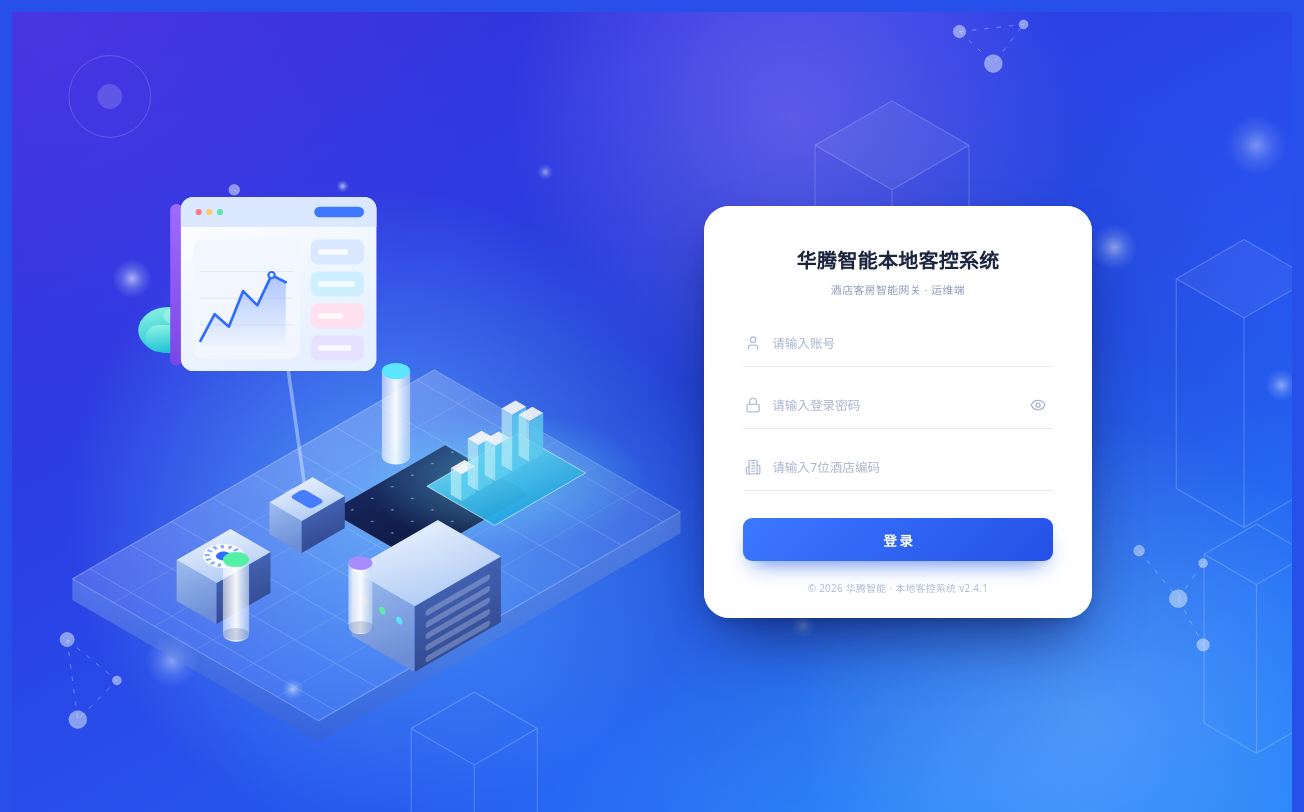
Test: 登录页 › 账号或密码错误时留在登录页提示，不写入会话
In the field with placeholder "请输入账号": (911, 343) [770,326,1051,360], type "admin"
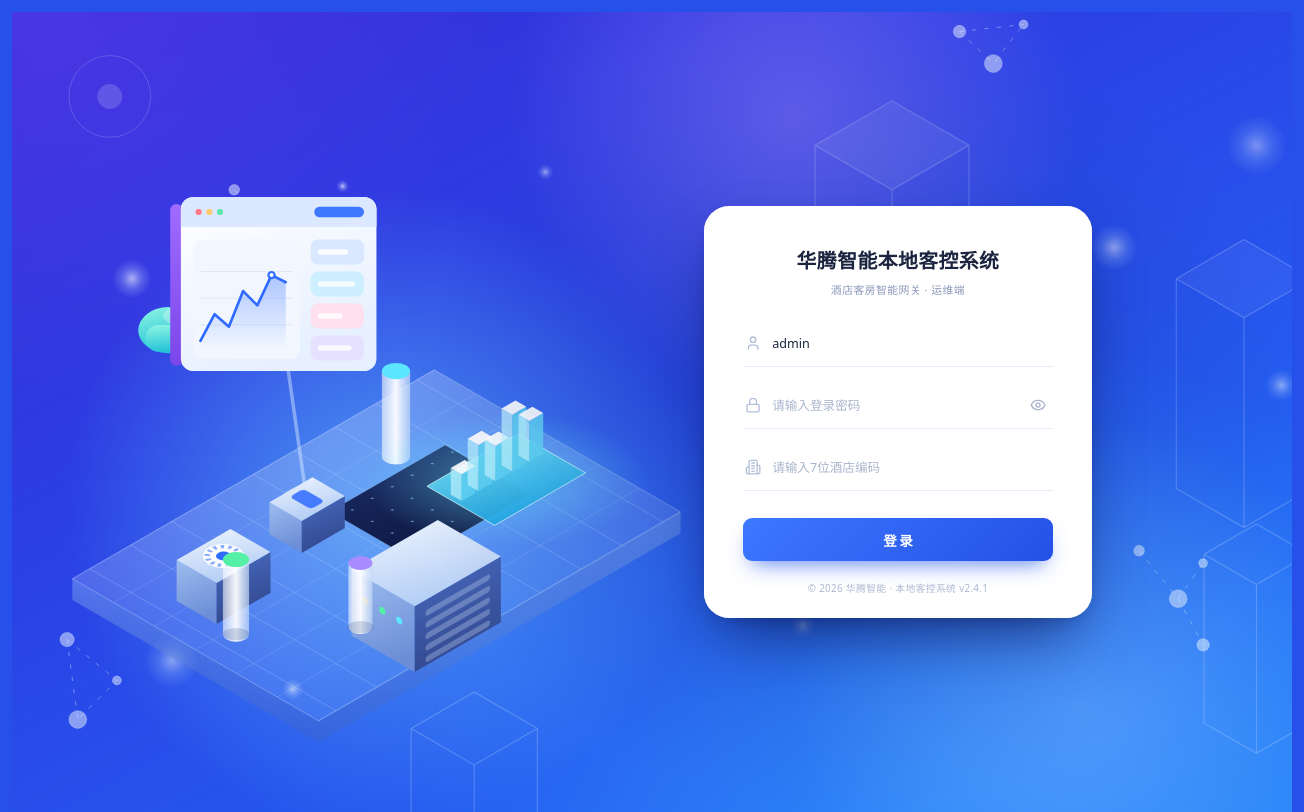
In the password field with placeholder "请输入登录密码": (893, 405) [770,388,1015,422], type "not-the-password"
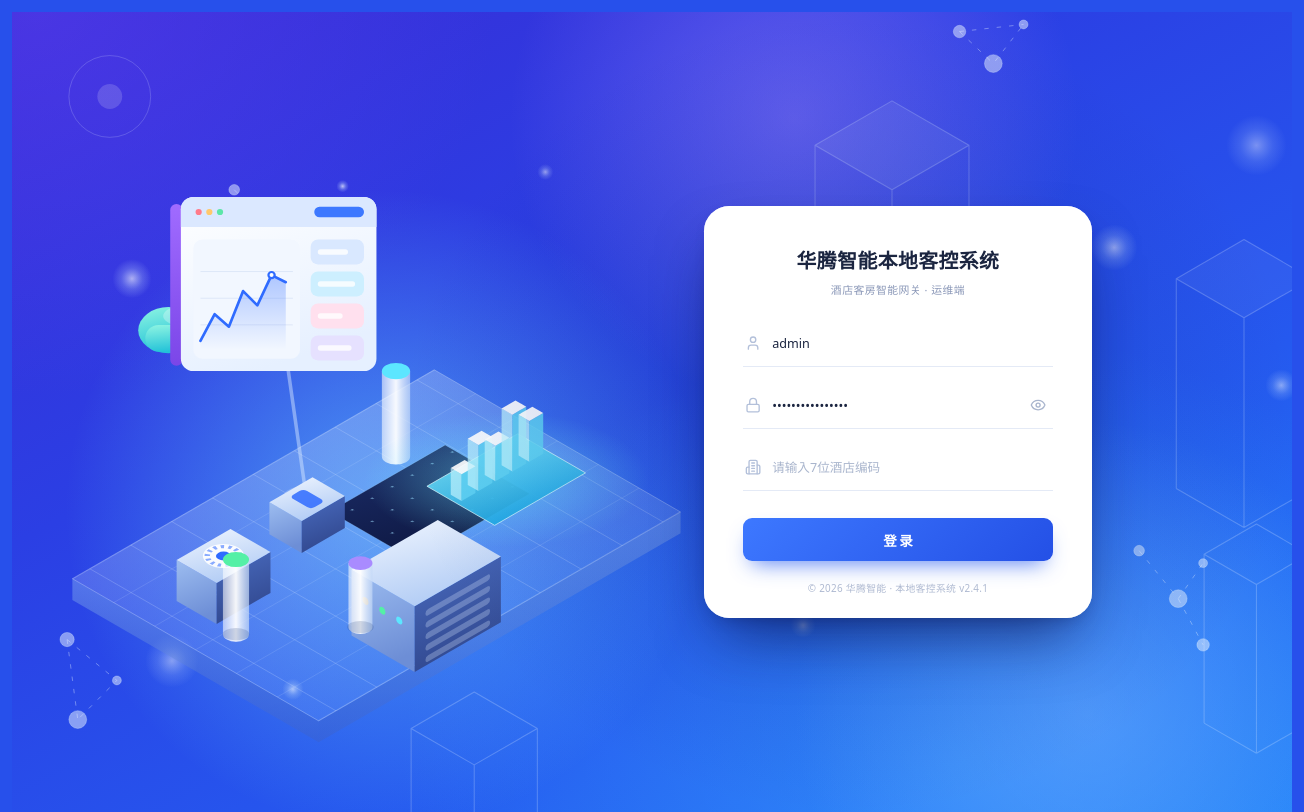
In the field with placeholder "请输入7位酒店编码": (911, 468) [770,450,1051,485], type "1111111"
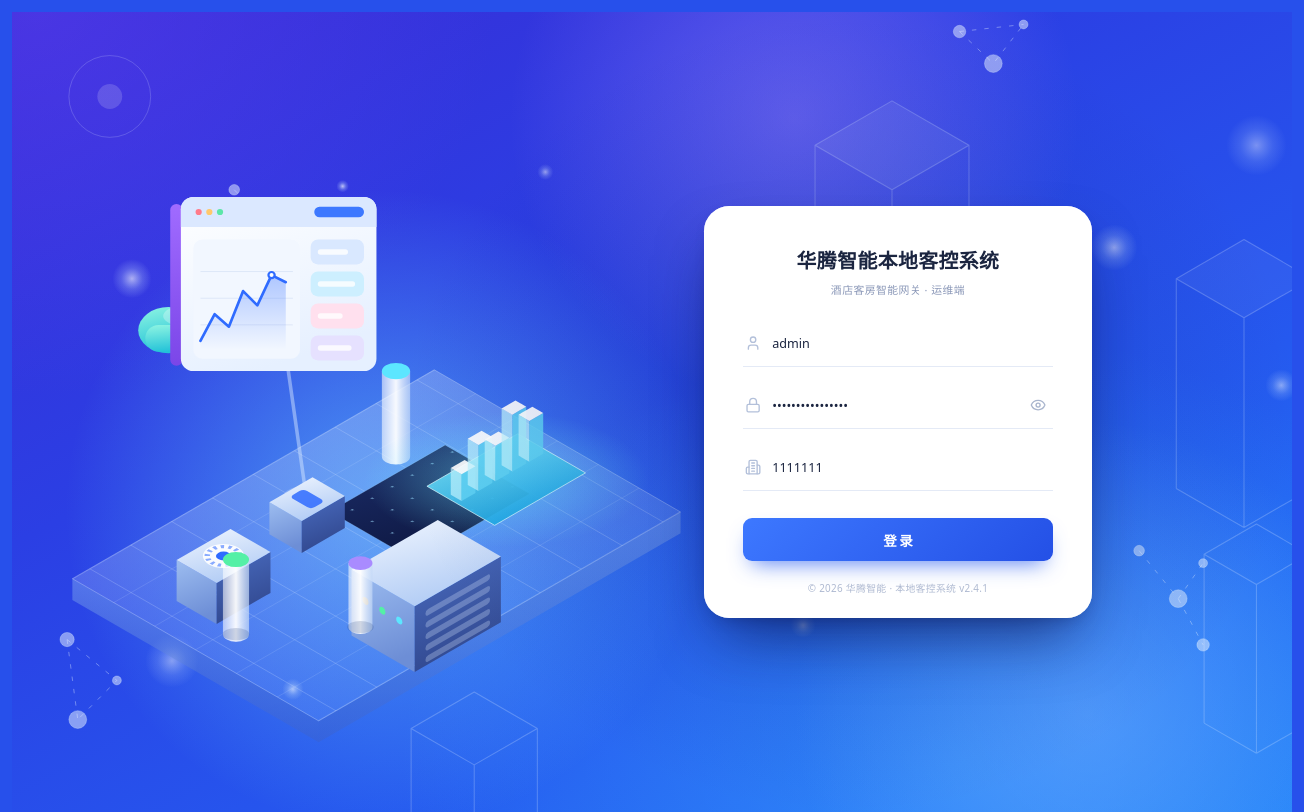
Submit the form with class "login-form", box [743,321,1053,561]
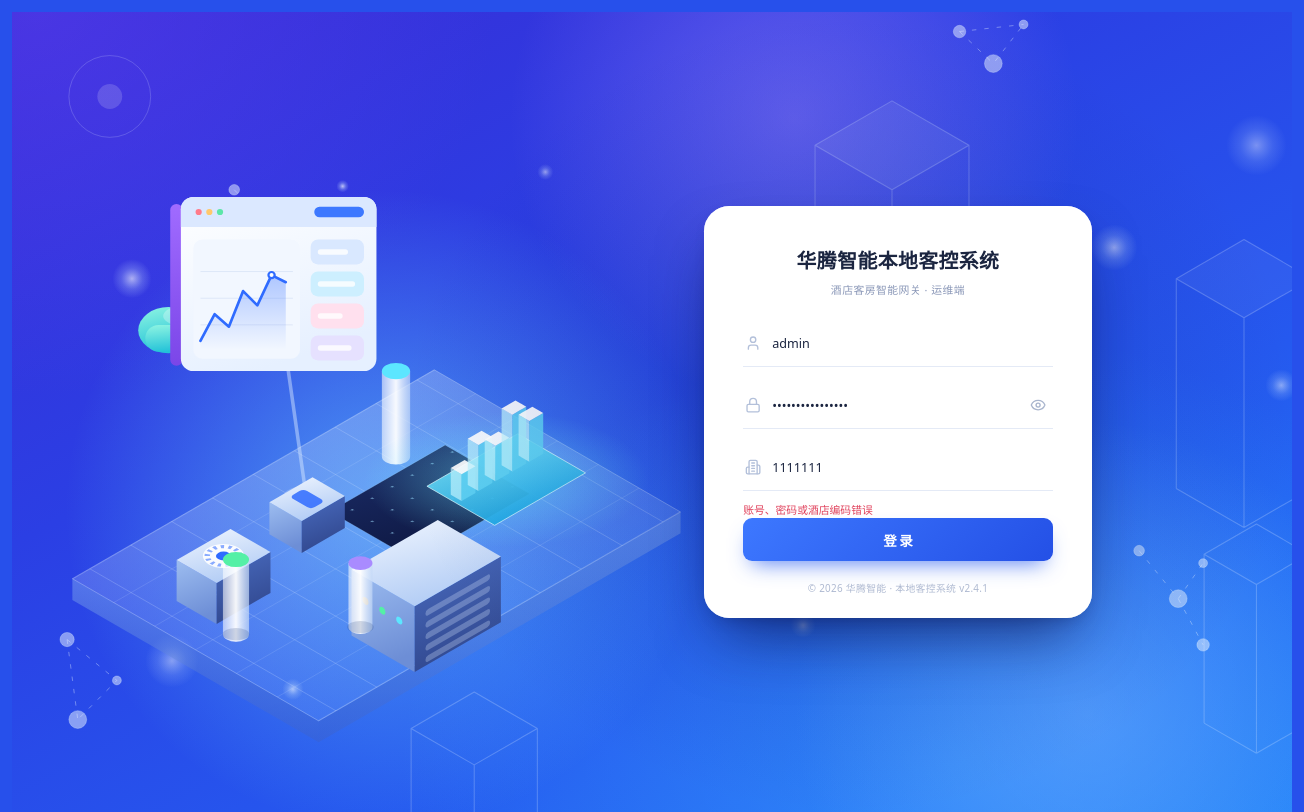
Now the text with class "login-error" reads "账号、密码或酒店编码错误", box [743,502,873,517]
